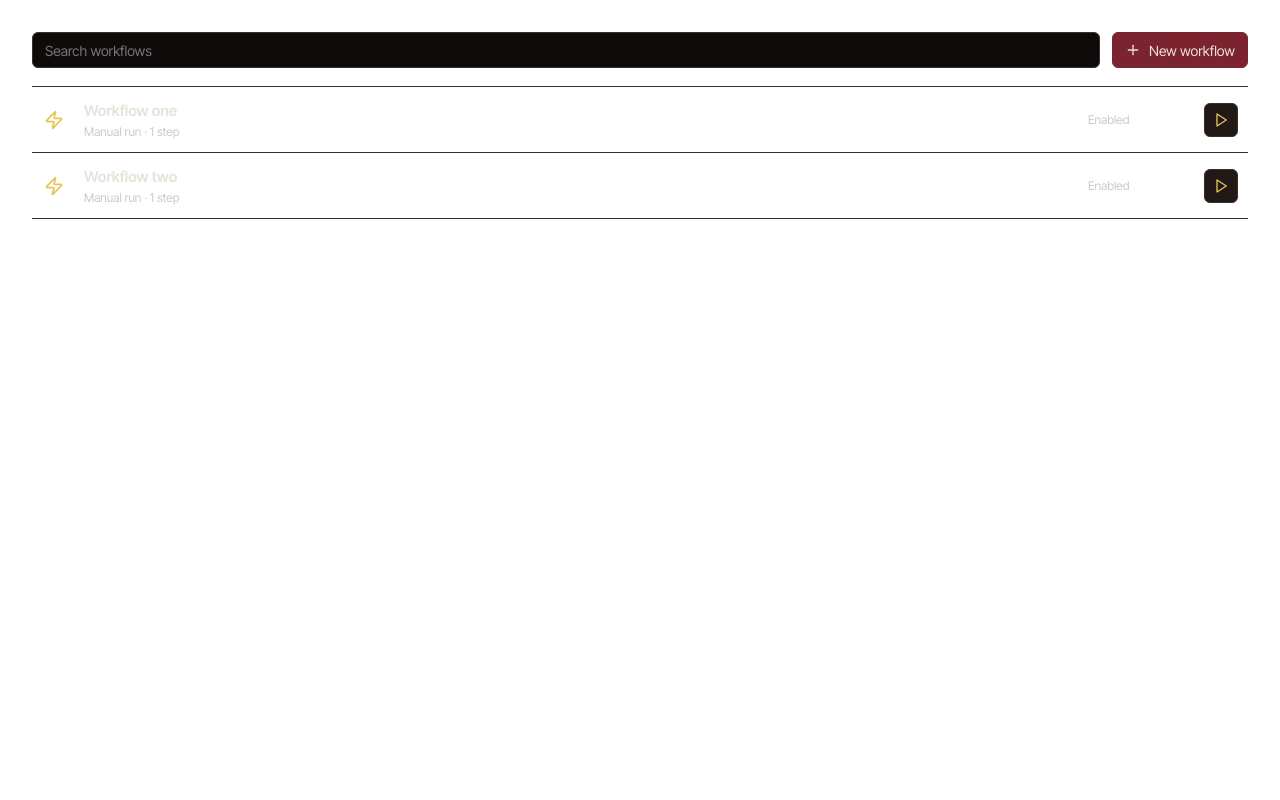
WorkflowLibraryView › uses safe request feedback and retains the name on create failure, then closes on success
Click the button with aria-label "Create workflow".
click(1180, 50)  # box x1=1112 y1=32 x2=1248 y2=68
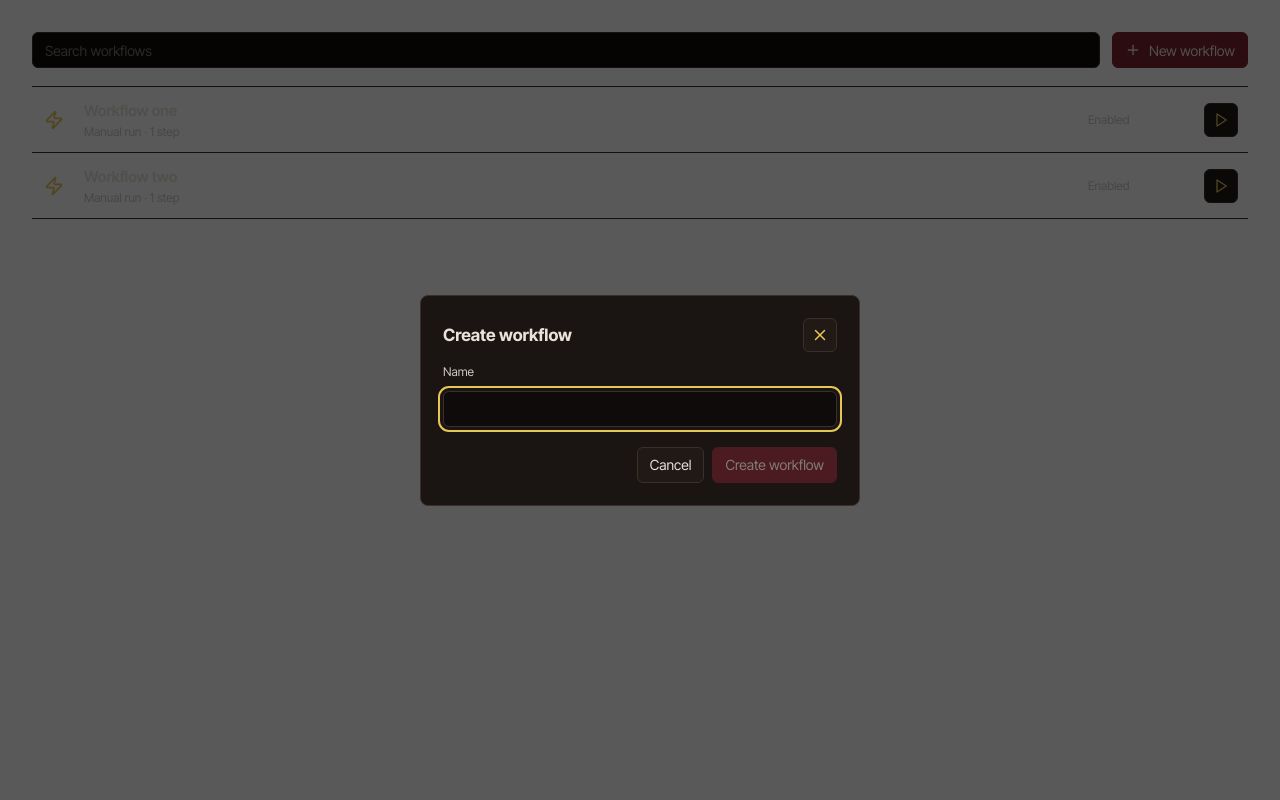
Type "My new workflow" into the field labelled "Name".
click(640, 408); type("My new workflow")  # box x1=443 y1=390 x2=837 y2=426
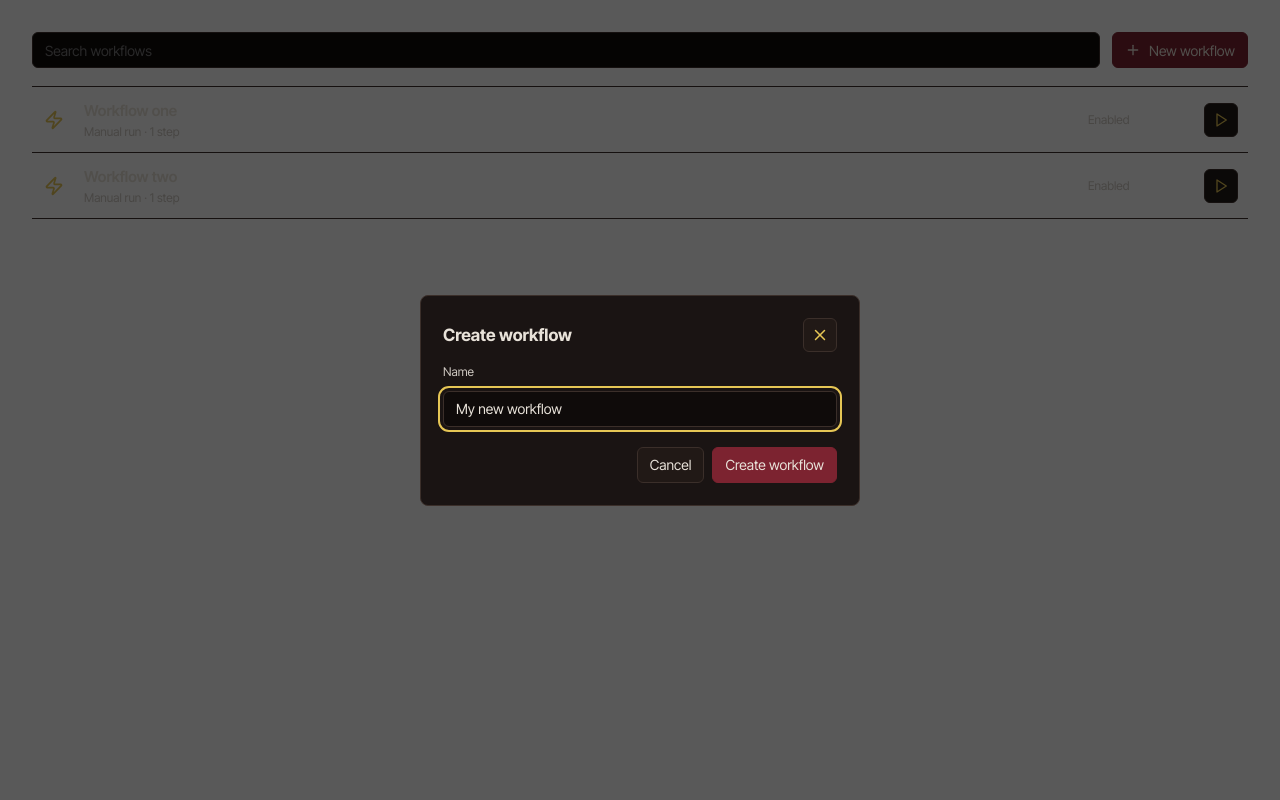
Submit the form "Name", box x1=443 y1=318 x2=837 y2=482
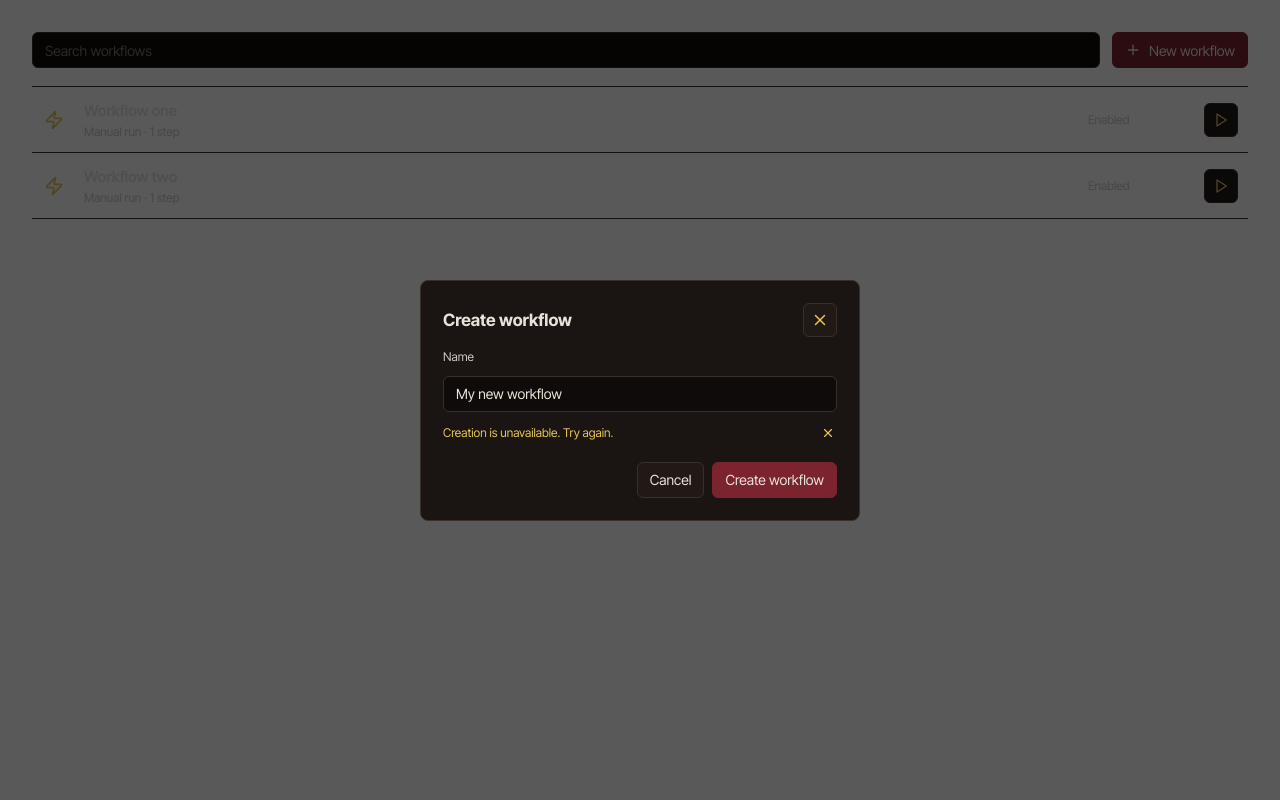
expect the message reads "Creation is unavailable. Try again.": met, box x1=443 y1=425 x2=613 y2=440
Submit the form "Name", box x1=443 y1=302 x2=837 y2=498
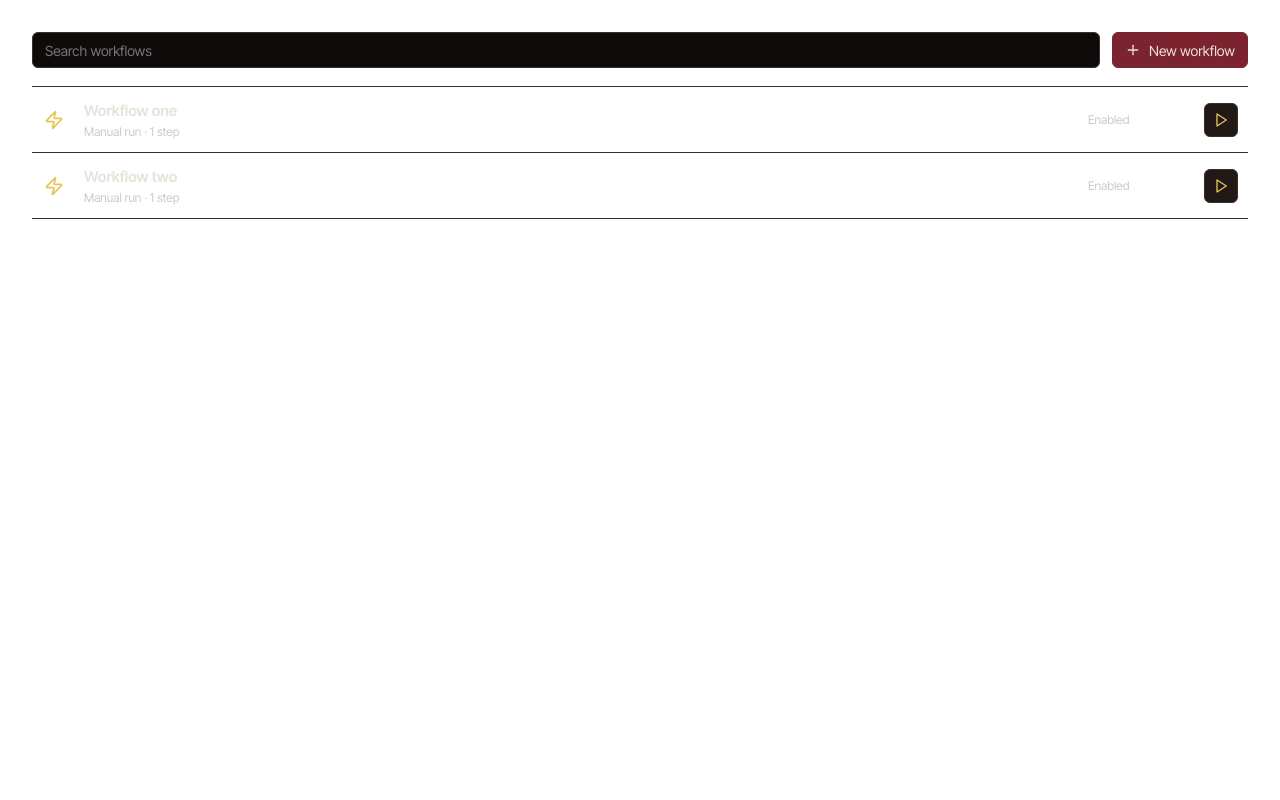
expect the dialog is gone: met
